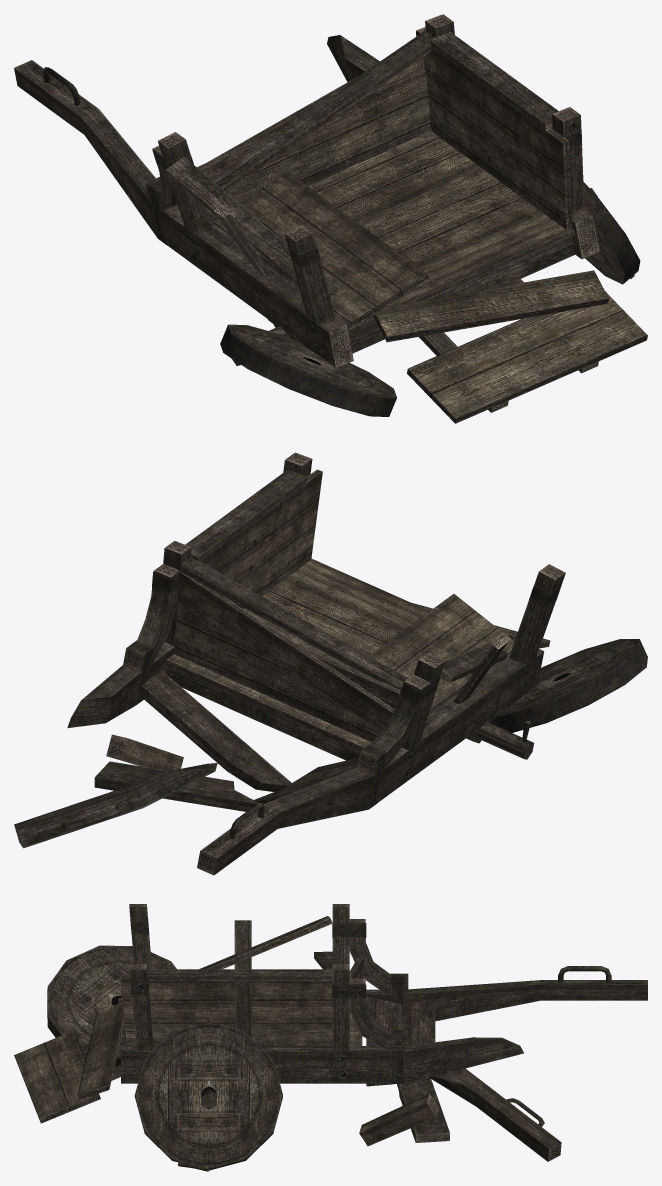
The model's file is eso_gu5_CartBroken-transformed.glb.
3 renders of one model, top to bottom at view 1: azimuth 30°, elevation 25°; view 2: azimuth 150°, elevation 25°; view 3: azimuth 270°, elevation 25°, orthographic. The views are drawn at different scales.
Visible parts, largest first — view 1: default; view 2: default; view 3: default.
Part boxes in pixels (left/top/right/bottom): default: left=14, top=14, right=647, bottom=423; default: left=14, top=452, right=647, bottom=875; default: left=14, top=904, right=647, bottom=1171.
Size of the model in its own units: 3.57 by 1.74 by 5.46.
1 material, 1 textured.
